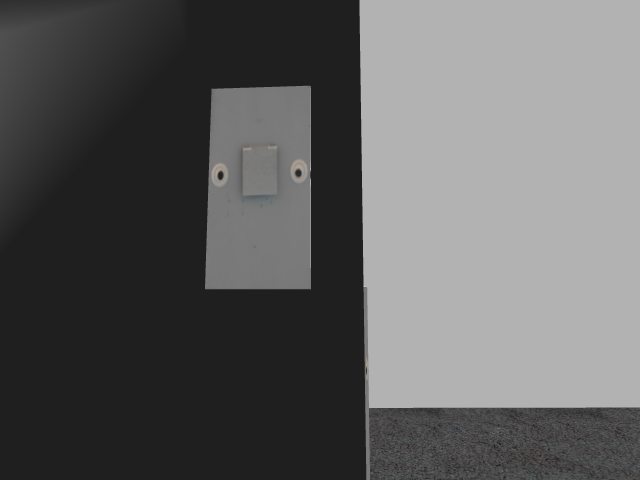facade: (210, 142, 308, 198)
